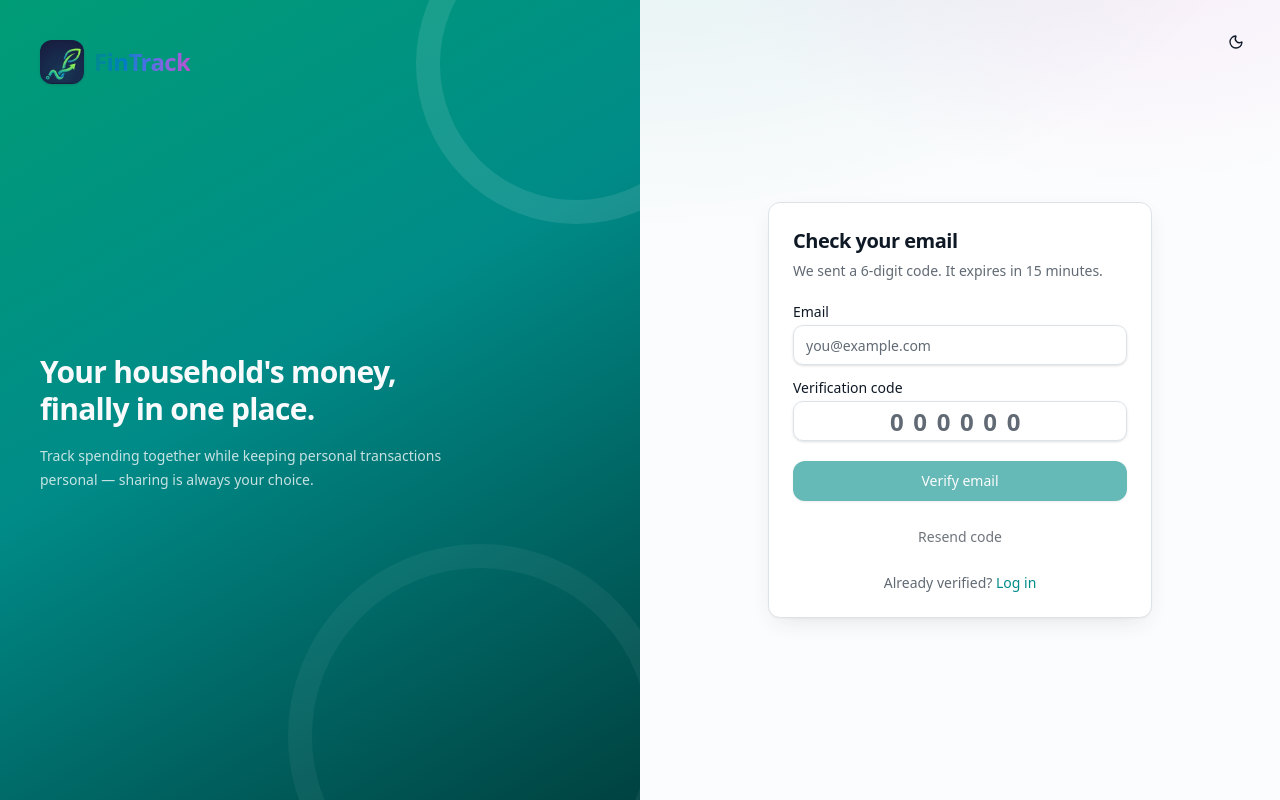
VerifyEmailPage › shows a network error when verification submit fails
In the field labelled "Email": (960,345) [793,325,1127,365], type "jane@example.com"
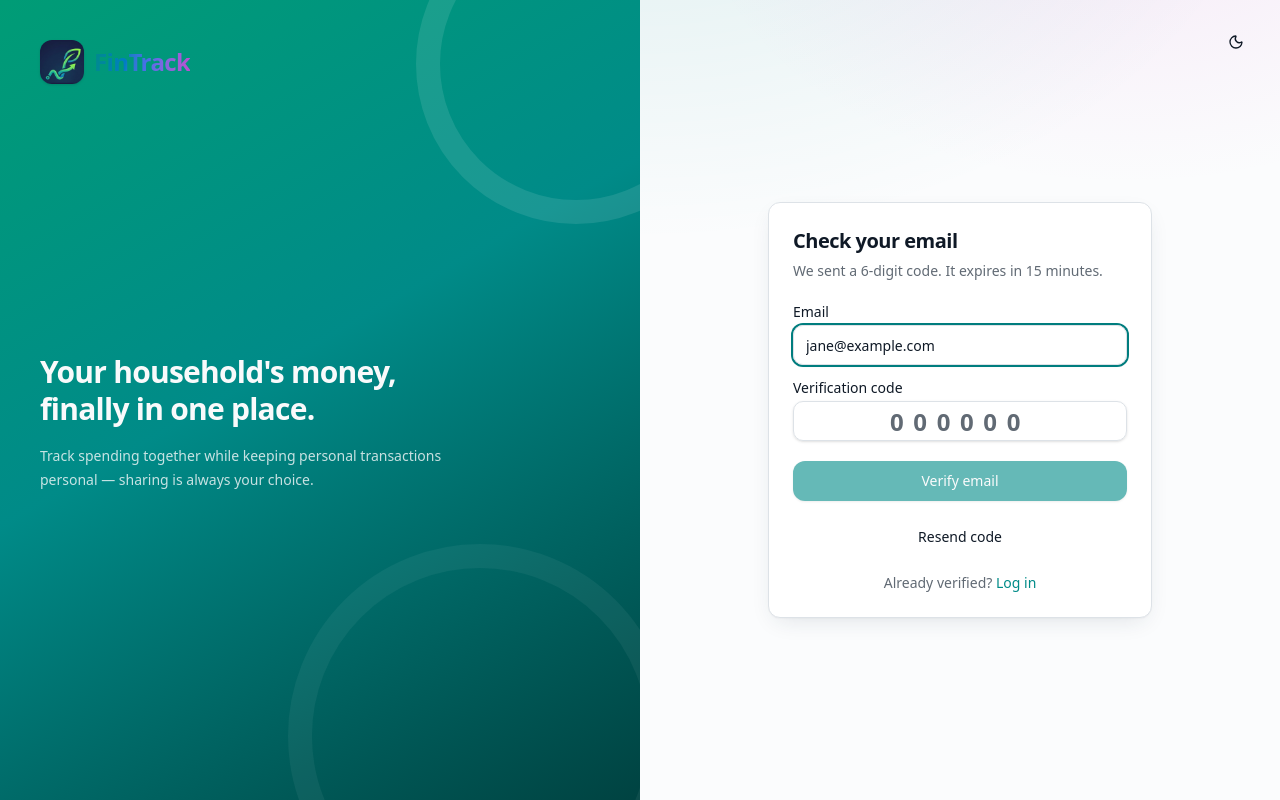
In the field labelled "Verification code": (960,421) [793,401,1127,441], type "123456"
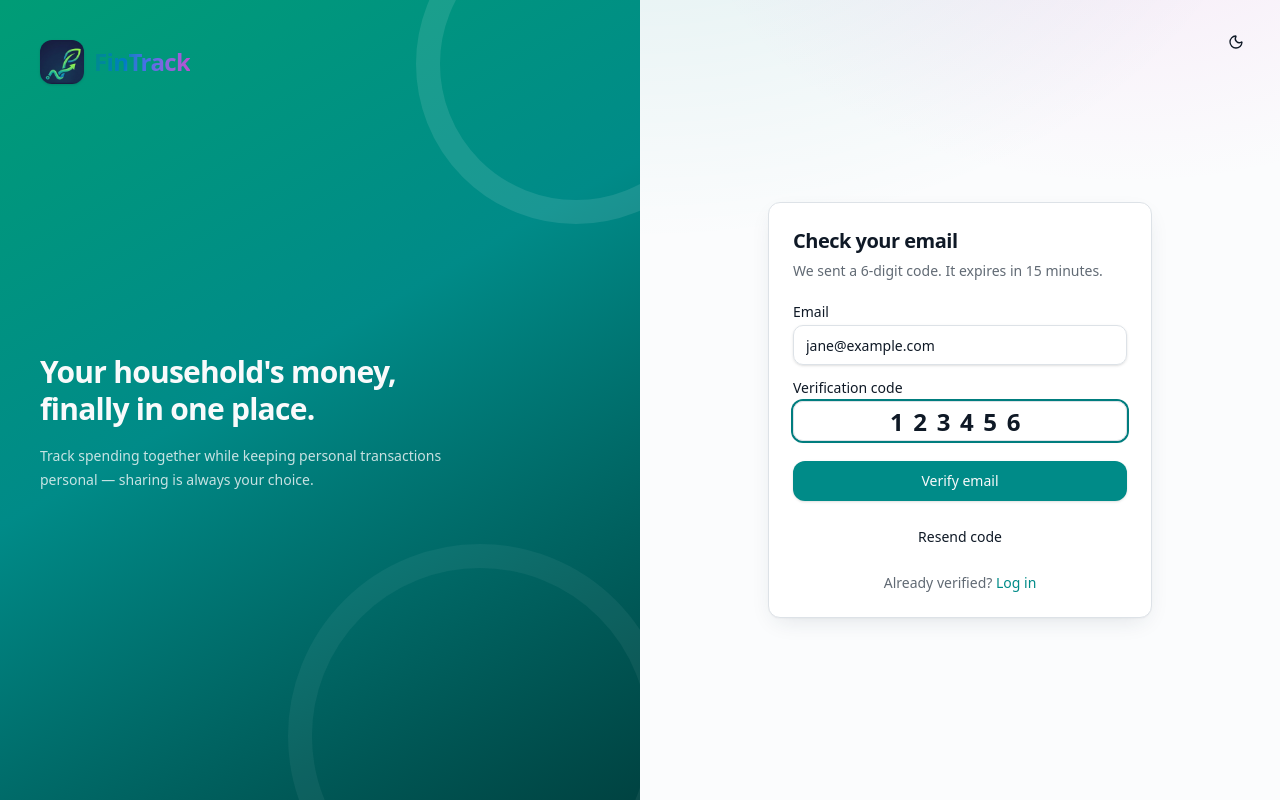
Click the button "Verify email": (960,481) [793,461,1127,501]
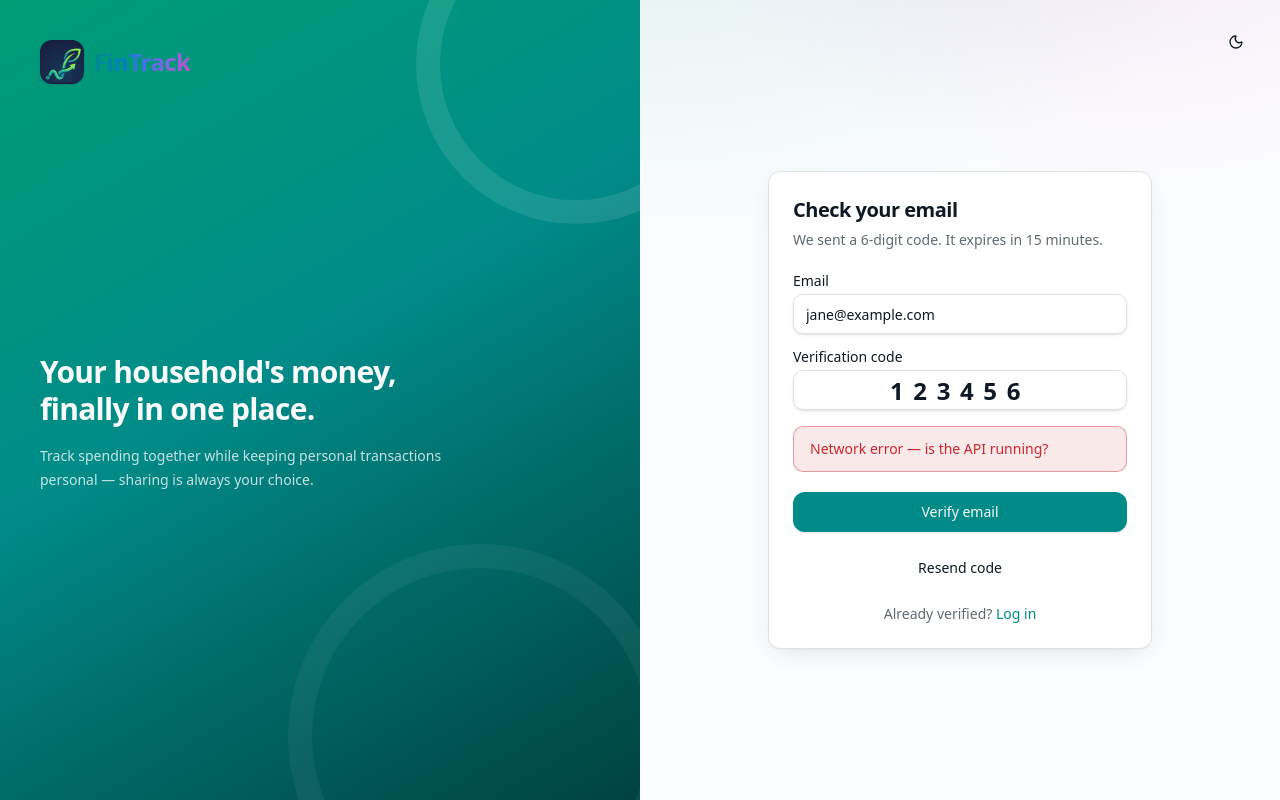
Expected: the text "Network error — is the API running?" is shown, [793,426,1127,472]
